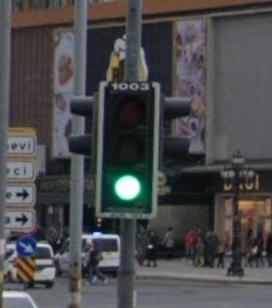greenlight: (97, 78, 158, 218)
